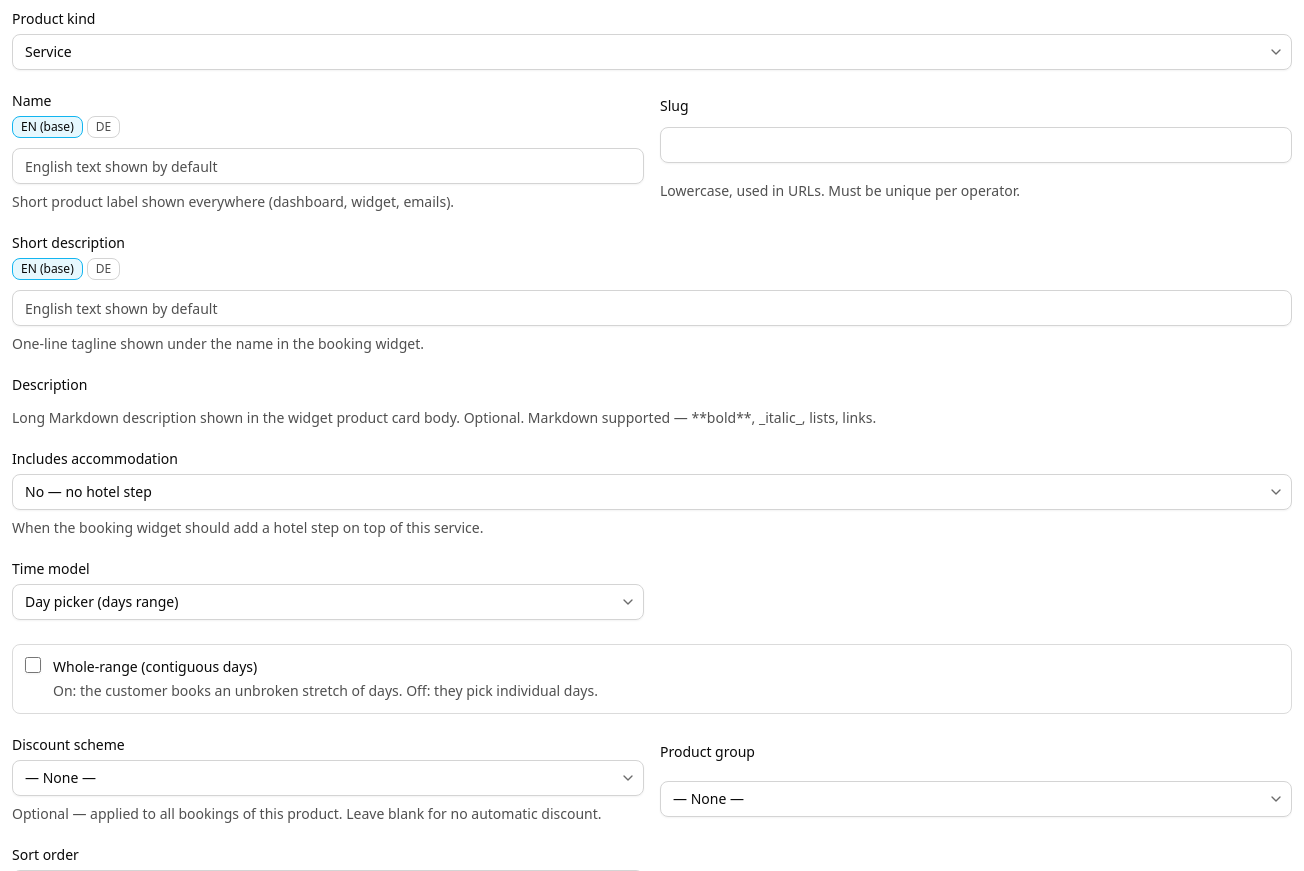
Test case: ProductForm — hotel_room kind (landr-ssrx) › shows the hotel picker only when kind=hotel_room
Select "Hotel room" in the dropdown labelled "Product kind": coordinates (652, 52) 12,34 -> 1292,70
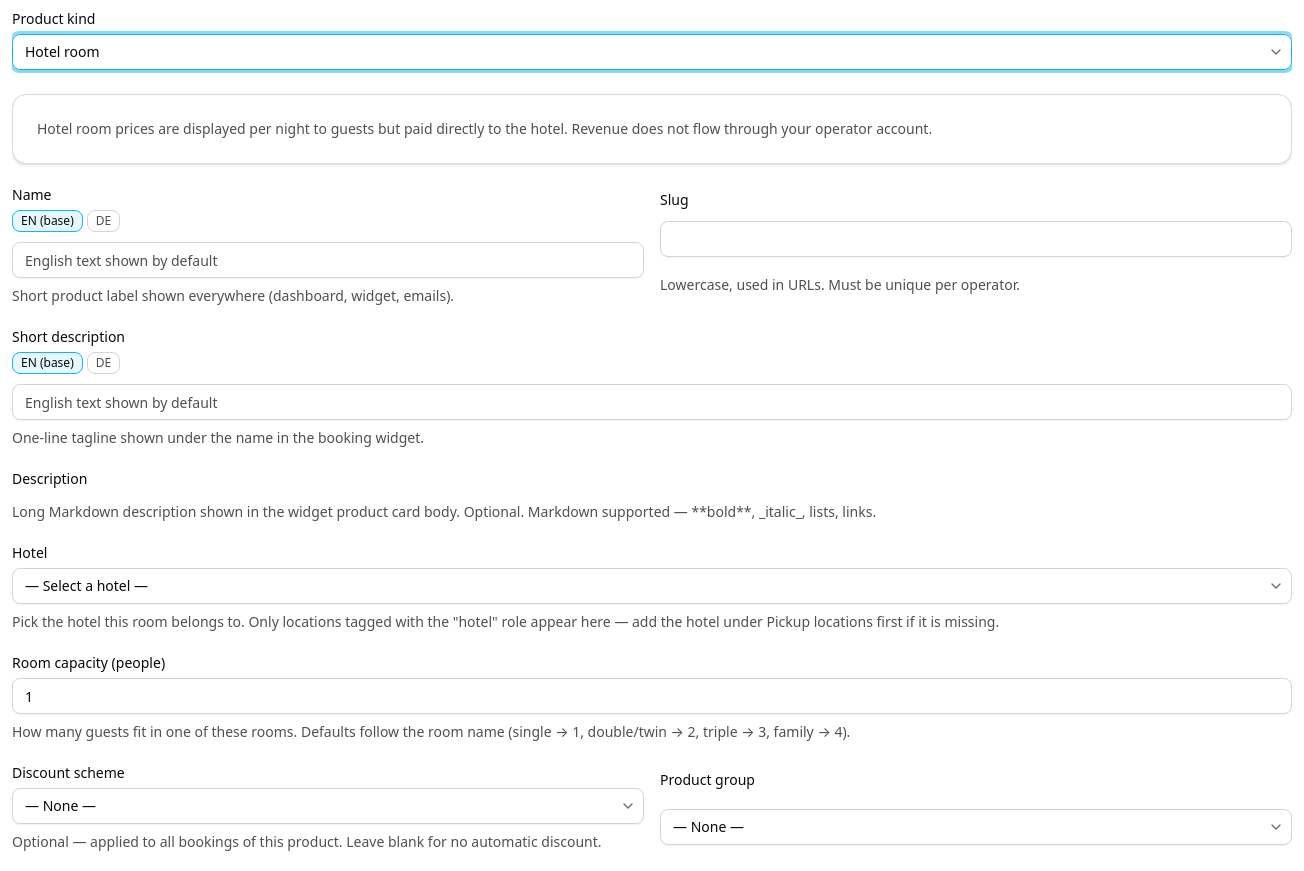
Now the label labelled "Time model" is gone
Now the text "Hotel room prices are displayed per night" is shown, box 37,119 -> 932,138
